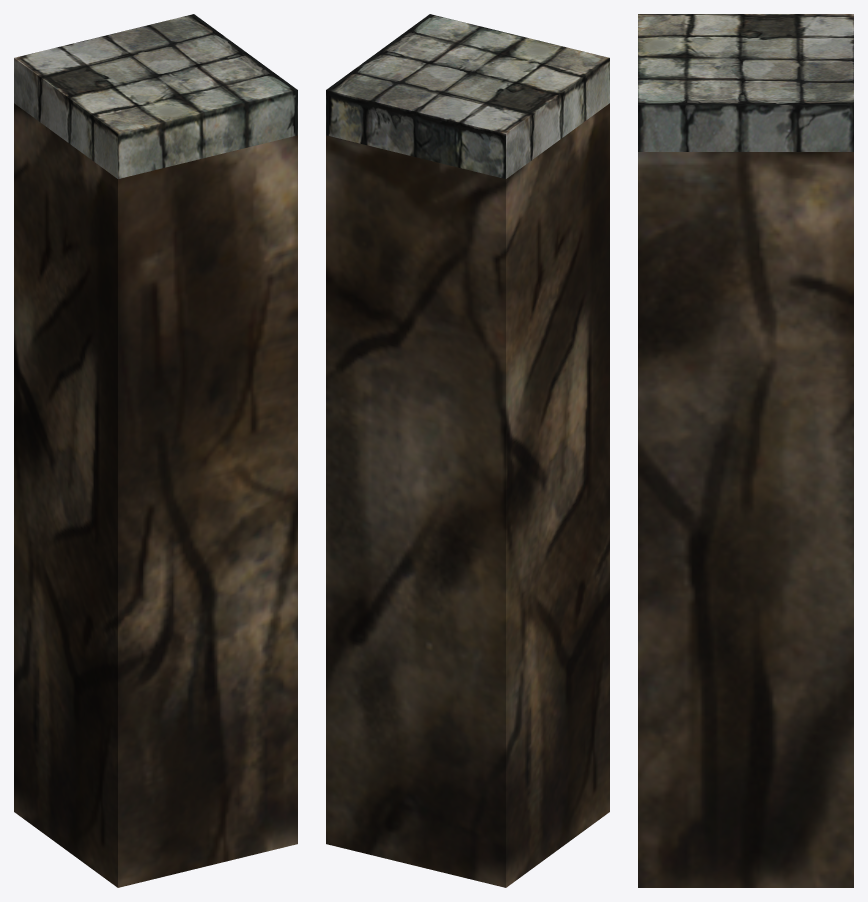
File: STR_FloorTileSmallDeep.FBX
3 renders of one model, left to right at view 1: azimuth 30°, elevation 25°; view 2: azimuth 150°, elevation 25°; view 3: azimuth 270°, elevation 25°, orthographic. The views are drawn at different scales.
Visible parts, largest first — view 1: STR_FloorTileSmallDeep; view 2: STR_FloorTileSmallDeep; view 3: STR_FloorTileSmallDeep.
Boxes of the visible parts, x1,y1,x2,y2 form: STR_FloorTileSmallDeep: (14,14,297,887); STR_FloorTileSmallDeep: (326,14,609,887); STR_FloorTileSmallDeep: (638,14,853,887).
Bounding box in the file's own units: 200 × 800 × 200.
